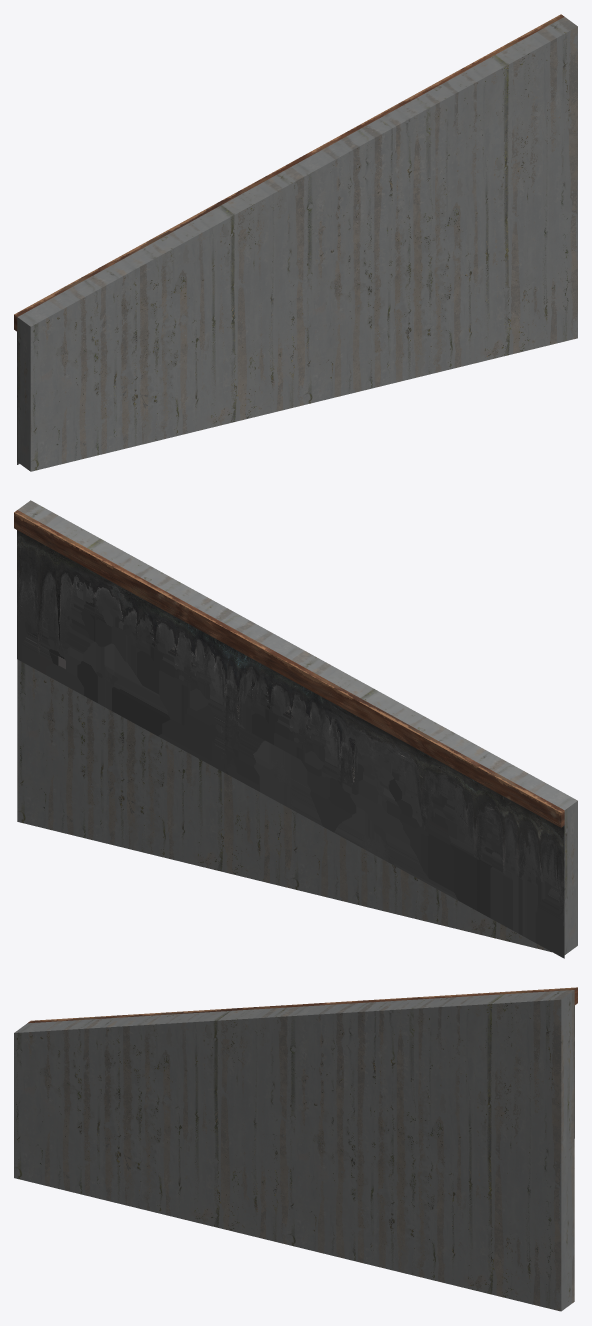
Rendered from Kit_HorizontalRoofAsbestos.fbx.
3 renders of one model, top to bottom at view 1: azimuth 30°, elevation 25°; view 2: azimuth 150°, elevation 25°; view 3: azimuth 330°, elevation 25°, orthographic.
Parts seen in each view (by area): view 1: Kit_HorizontalRoofAsbestos; view 2: Kit_HorizontalRoofAsbestos; view 3: Kit_HorizontalRoofAsbestos.
Part boxes in pixels (x1,y1,x2,y2): Kit_HorizontalRoofAsbestos: (14,14,577,471); Kit_HorizontalRoofAsbestos: (14,500,577,958); Kit_HorizontalRoofAsbestos: (14,987,577,1311).
Bounding box in the file's own units: 157 × 86.58 × 8.36.
